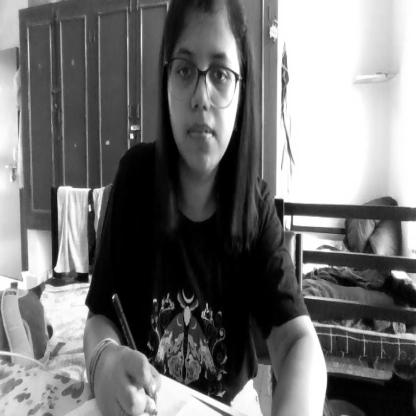Normal: (164, 0, 247, 185)
